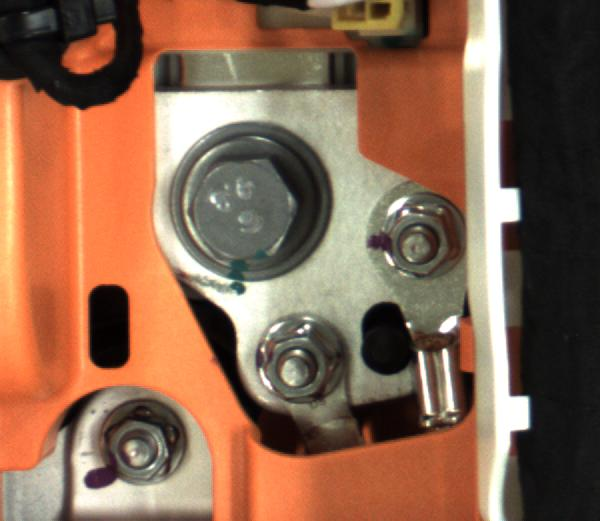nut_b: (155, 124, 320, 272)
screw_s: (373, 195, 464, 291), (263, 328, 351, 420), (105, 405, 192, 485)
